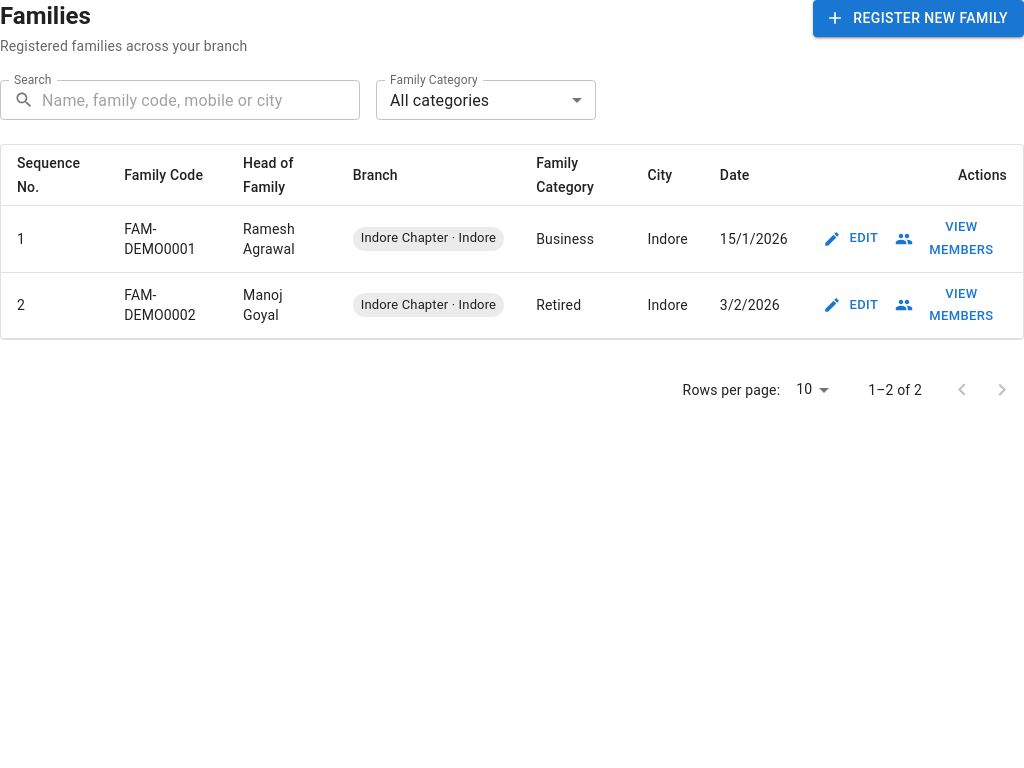
Test: FamiliesListPage › shows the Edit button for a role holding EDIT_FAMILY, and opens the edit dialog for that family
Check: the text "FAM-DEMO0001" is shown, box left=108, top=206, right=227, bottom=272
Click the button "Edit" in the row of "FAM-DEMO0001" at (852, 239), box left=820, top=212, right=884, bottom=266
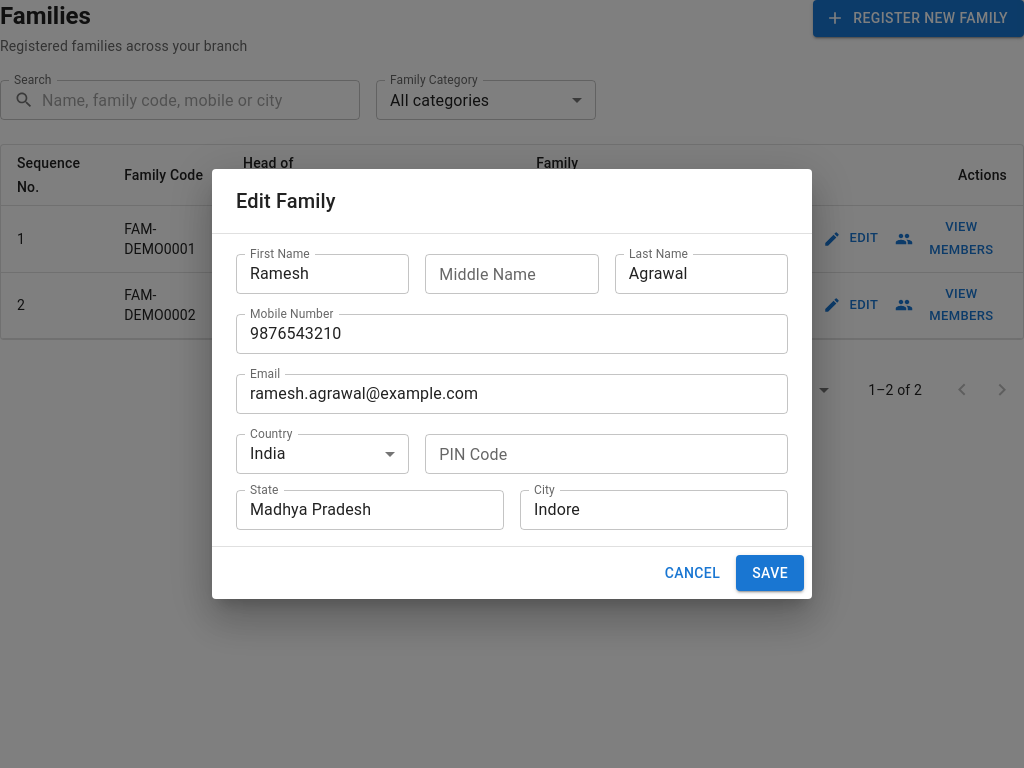
Check: the heading "Edit Family" is shown, box left=236, top=189, right=336, bottom=213
Check: the field labelled "First Name" holds "Ramesh", box left=236, top=254, right=409, bottom=294
